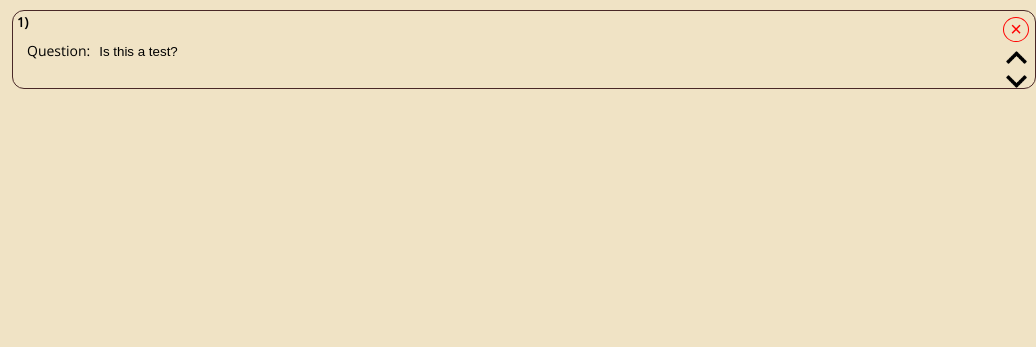
Test case: Question › once the user clicks on edit, the select element should become enabled
Click the element with test id "content" at (59, 50), box [13,21,1035,78]
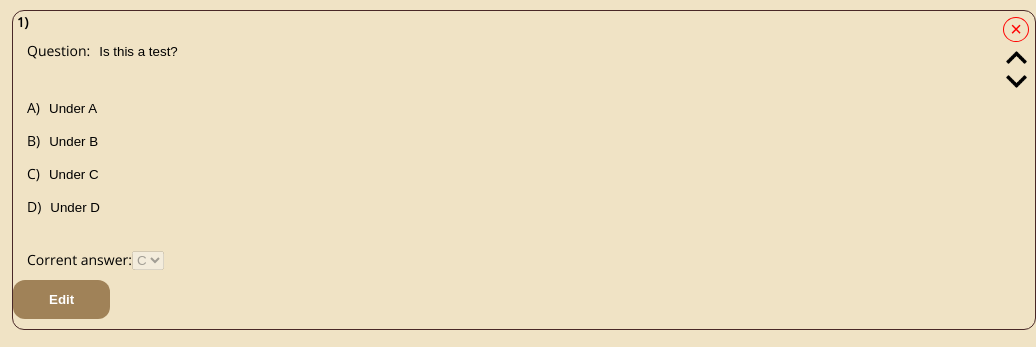
Click the button with test id "edit-btn" at (62, 300), box [13,280,110,319]
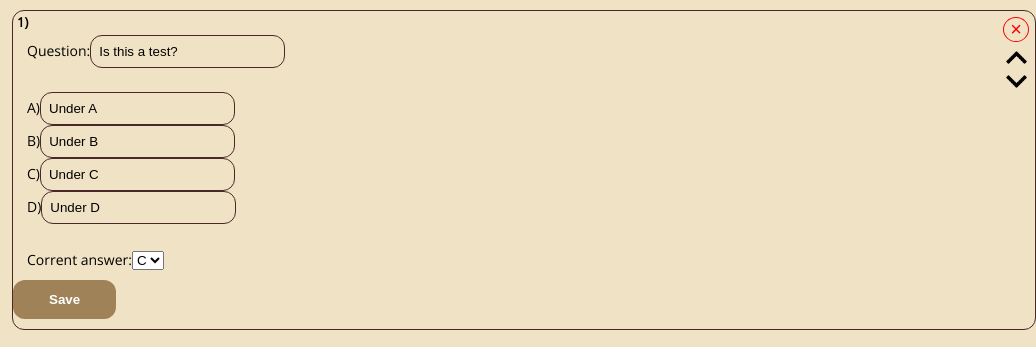
Expected: the dropdown with test id "answer" is enabled, [132,251,164,270]
